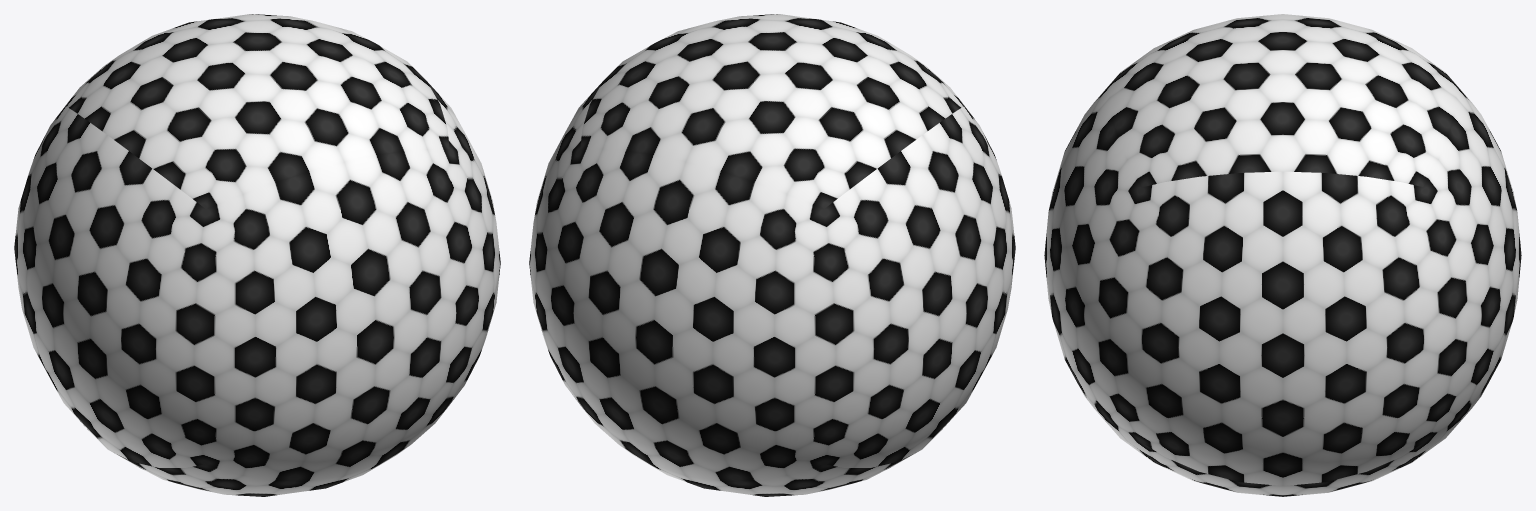
File: SoccerBall.FBX
3 renders of one model, left to right at view 1: azimuth 30°, elevation 25°; view 2: azimuth 150°, elevation 25°; view 3: azimuth 270°, elevation 25°, orthographic.
Parts seen in each view (by area): view 1: Box001; view 2: Box001; view 3: Box001.
Boxes of the visible parts, x1,y1,x2,y2 form: Box001: (14, 14, 500, 496); Box001: (529, 14, 1015, 496); Box001: (1044, 14, 1521, 496).
Bounding box in the file's own units: 136 × 136 × 136.
1 material, 1 textured.
